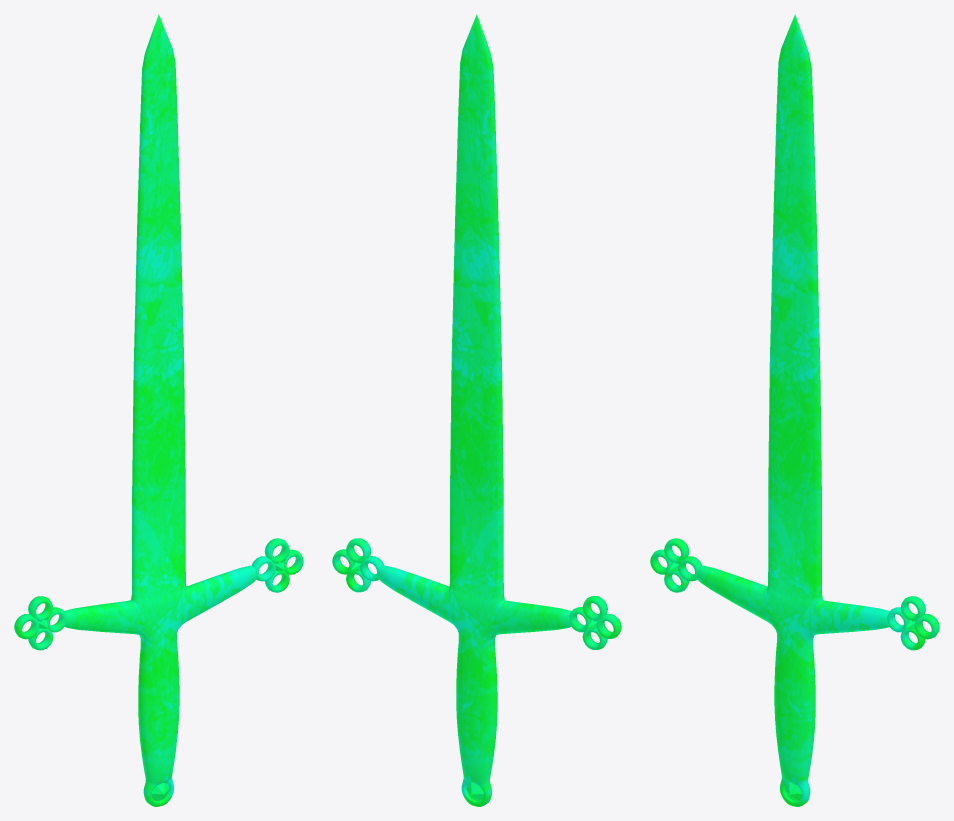
File: UBERBLADE.glb
The picture shows the model from 3 angles, left to right: view 1: azimuth 30°, elevation 25°; view 2: azimuth 150°, elevation 25°; view 3: azimuth 330°, elevation 25°; orthographic projection.
Parts seen in each view (by area): view 1: UBERBLADE; view 2: UBERBLADE; view 3: UBERBLADE.
Boxes of the visible parts, box(x1,y1,x2,y2) form: UBERBLADE: box(14, 14, 303, 806); UBERBLADE: box(332, 14, 621, 806); UBERBLADE: box(650, 14, 939, 806).
Size of the model in its own units: 0.9853 by 2.6 by 0.0909.
1 material, 1 textured.
